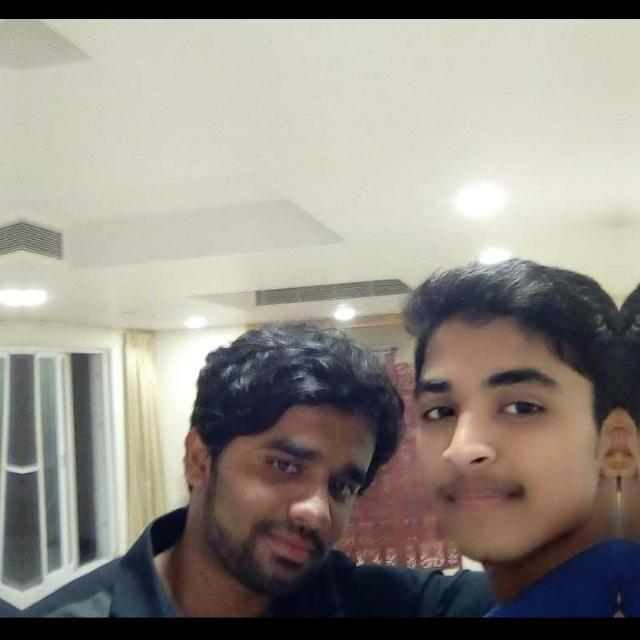person: (395, 238, 619, 640), (176, 274, 400, 640), (618, 238, 640, 640)
